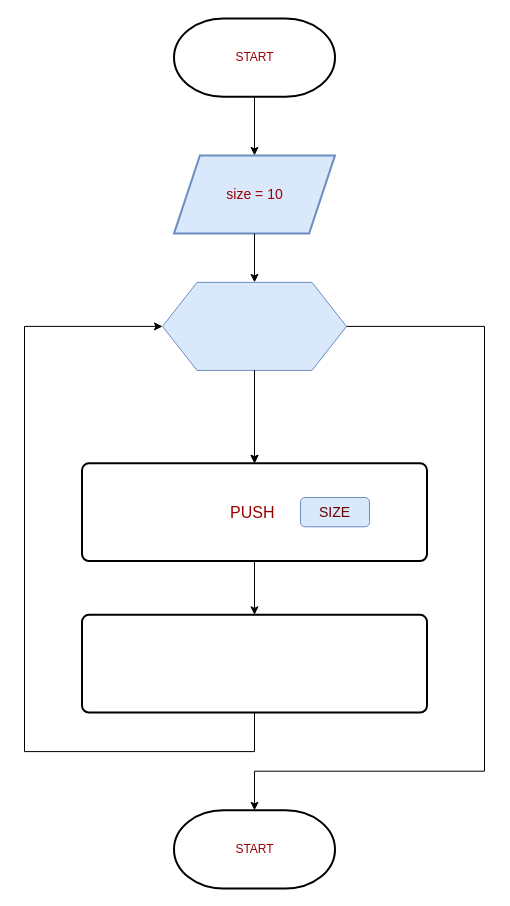
The diagram is 510 pixels wide and 906 high, and some of its shapes have lost their labels. Each missing label, with the centre of its shape:
"RANGE 4" belongs at point 254,325.
"TURN LEFT 90" belongs at point 254,663.
